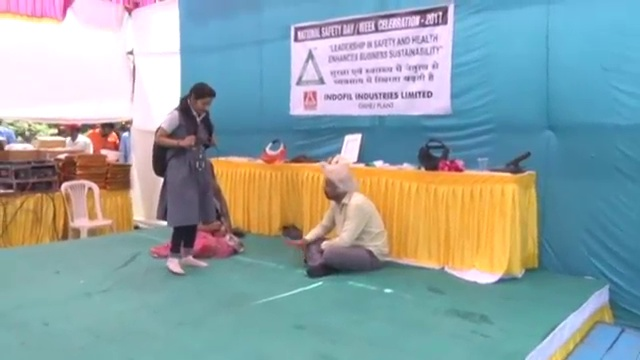helmet_off: (319, 161, 355, 201), (186, 81, 215, 116)
person: (147, 80, 216, 276), (299, 161, 390, 278), (187, 160, 243, 258), (85, 122, 118, 152), (65, 123, 93, 153), (118, 119, 135, 164)
